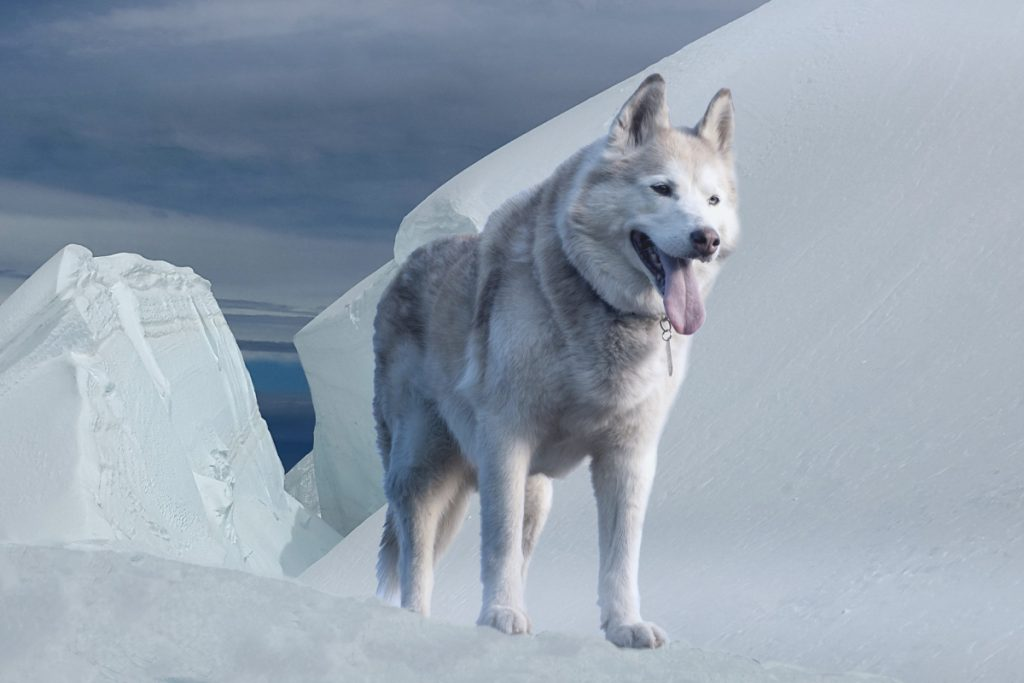husky: (354, 80, 768, 559)
